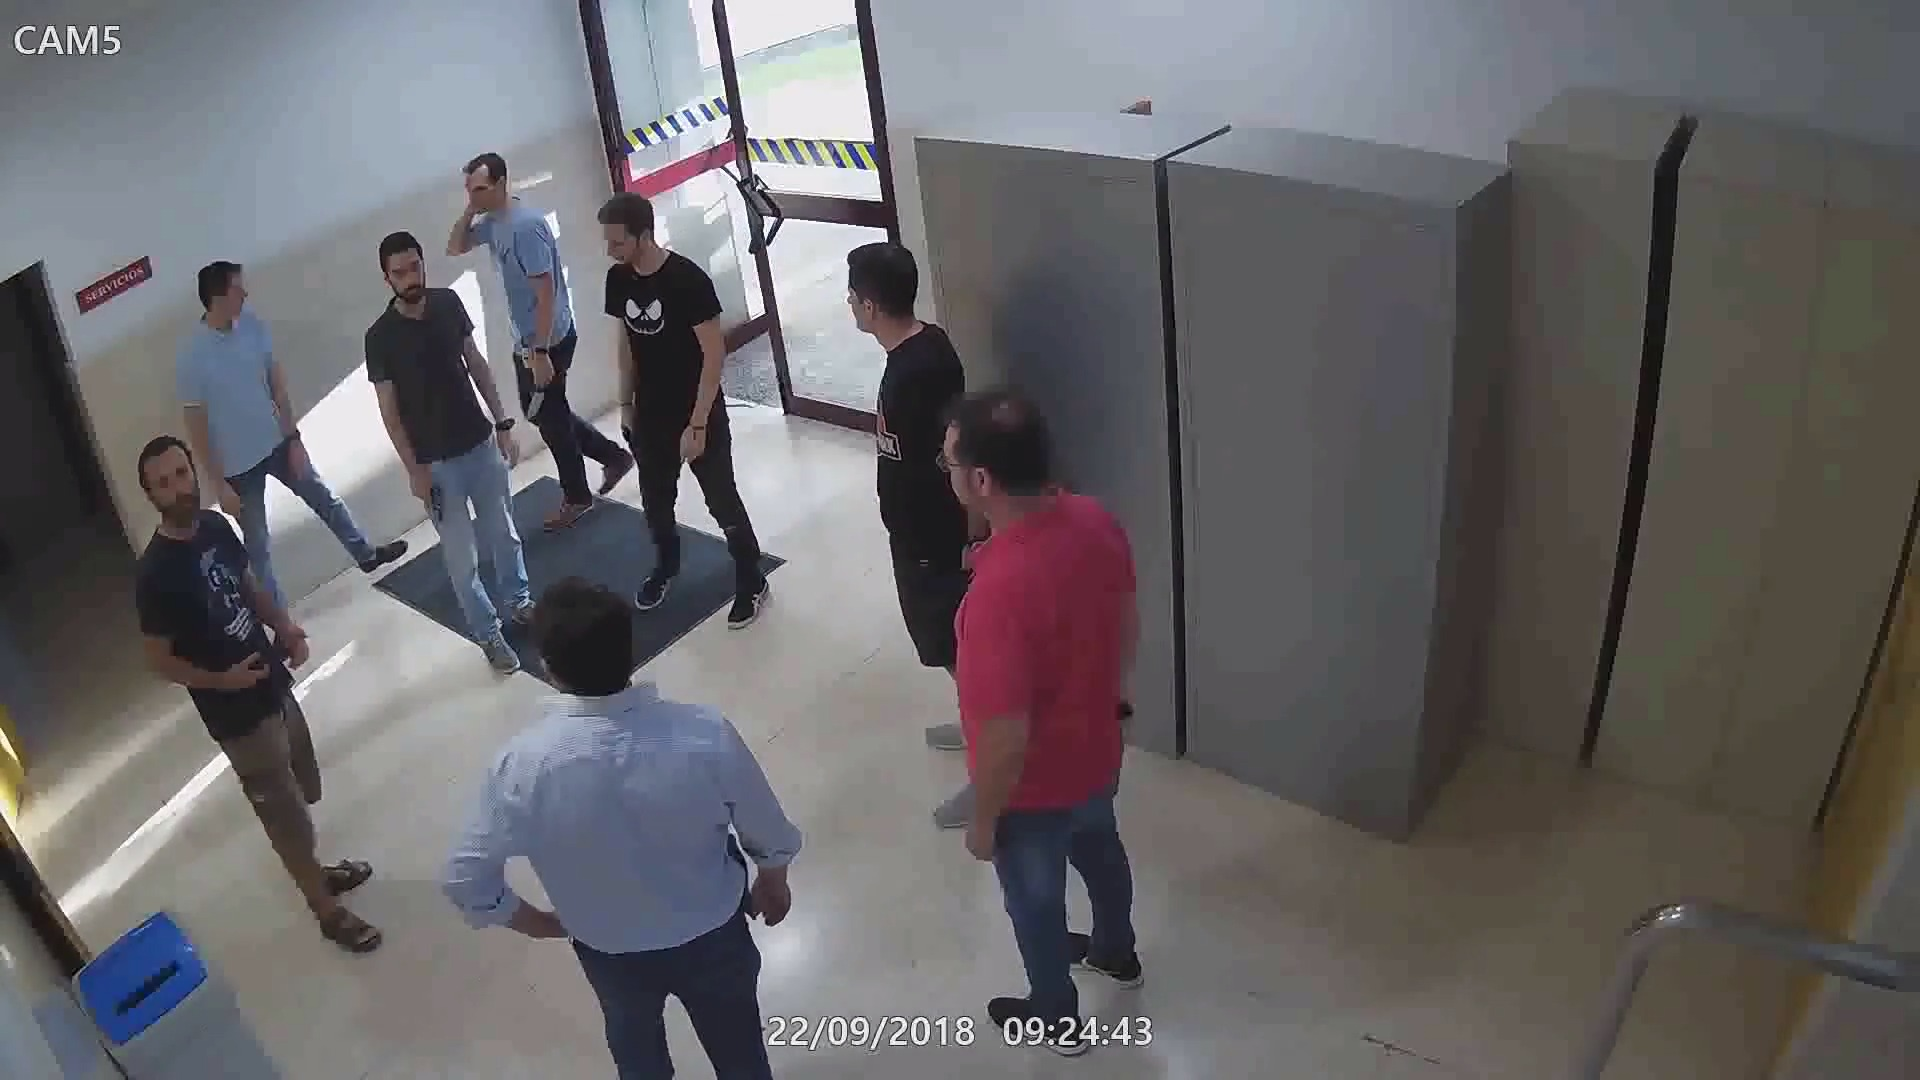knife: (524, 355, 556, 425)
pistol: (220, 636, 306, 696), (407, 458, 450, 526), (731, 831, 760, 924), (613, 400, 650, 463)
